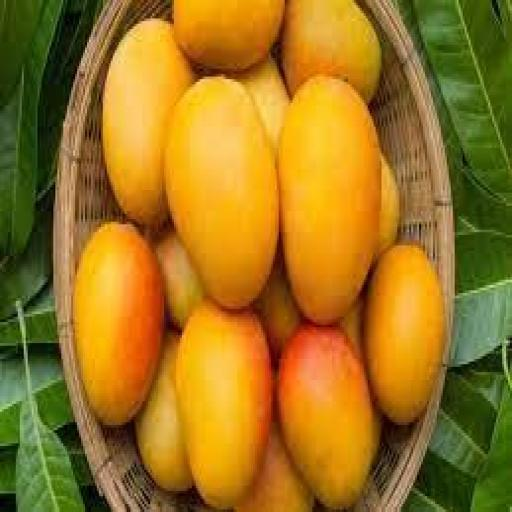mango: (167, 77, 278, 308), (279, 77, 381, 324), (176, 301, 272, 509), (74, 222, 164, 424), (279, 325, 373, 509), (364, 246, 444, 424)
